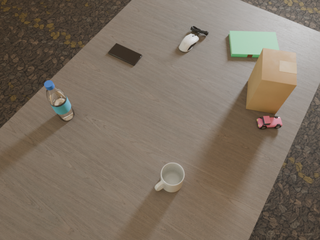book: (229, 31, 279, 57)
bottle: (44, 81, 74, 121)
box: (246, 48, 297, 114)
cup: (155, 163, 184, 192)
mouse: (179, 34, 199, 52)
phone: (108, 43, 142, 65)
toy_car: (257, 116, 282, 129)
